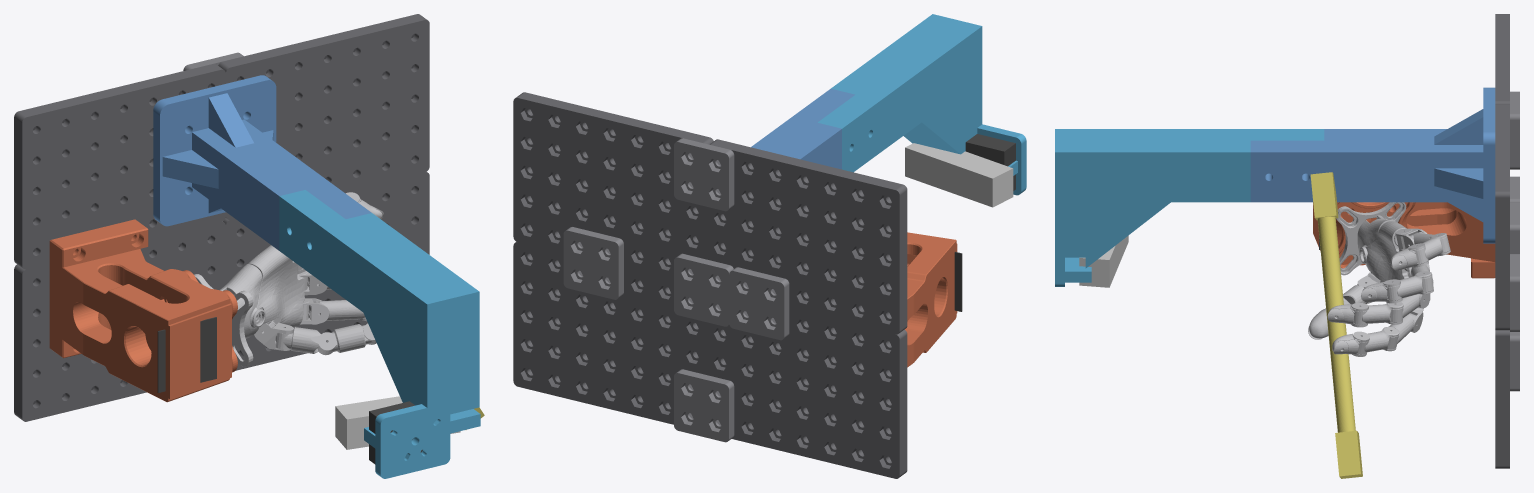
Rendered from assembly.glb.
The picture shows the model from 3 angles, left to right: view 1: azimuth 30°, elevation 25°; view 2: azimuth 150°, elevation 25°; view 3: azimuth 270°, elevation 25°; orthographic projection. The views are drawn at different scales.
Parts seen in each view (by area): view 1: column_top, tile3, tile2, wuji_jig, column_base, tile0, wuji_hand2, tile1, d435i, wrist_tag, bracket; view 2: tile2, tile3, tile0, tile1, column_top, wuji_jig, d435i, column_base, splice1, splice3, splice4, splice2 (+2 smaller); view 3: column_top, column_base, wuji_hand2, pen, wuji_jig, tile3, tile1, tile2, d435i, splice4, splice2, splice3 (+1 smaller).
Boxes of the visible parts, <box> form: column_top: <box>279,190,480,478</box>; tile3: <box>218,14,429,219</box>; tile2: <box>14,63,225,269</box>; wuji_jig: <box>49,219,237,402</box>; column_base: <box>153,75,371,250</box>; tile0: <box>14,221,225,421</box>; wuji_hand2: <box>194,192,383,366</box>; tile1: <box>223,172,429,370</box>; d435i: <box>335,396,460,449</box>; wrist_tag: <box>157,317,216,392</box>; bracket: <box>369,401,422,464</box>; tile2: <box>706,139,907,334</box>; tile3: <box>513,92,713,280</box>; tile0: <box>706,304,907,478</box>; tile1: <box>513,242,706,424</box>; column_top: <box>818,14,1026,195</box>; wuji_jig: <box>905,232,957,367</box>; d435i: <box>905,143,1013,207</box>; column_base: <box>751,88,854,169</box>; splice1: <box>729,267,789,340</box>; splice3: <box>674,369,734,442</box>; splice4: <box>674,138,734,211</box>; splice2: <box>563,227,623,299</box>; column_top: <box>1055,129,1324,286</box>; column_base: <box>1250,87,1495,243</box>; wuji_hand2: <box>1308,202,1450,356</box>; pen: <box>1310,172,1362,478</box>; wuji_jig: <box>1313,202,1495,278</box>; tile3: <box>1495,104,1509,330</box>; tile1: <box>1495,330,1509,468</box>; tile2: <box>1495,14,1509,104</box>; d435i: <box>1079,235,1128,287</box>; splice4: <box>1510,91,1519,169</box>; splice2: <box>1510,254,1519,331</box>; splice3: <box>1510,332,1519,391</box>.
Bounding box in the file's own units: 350 × 277 × 380.
